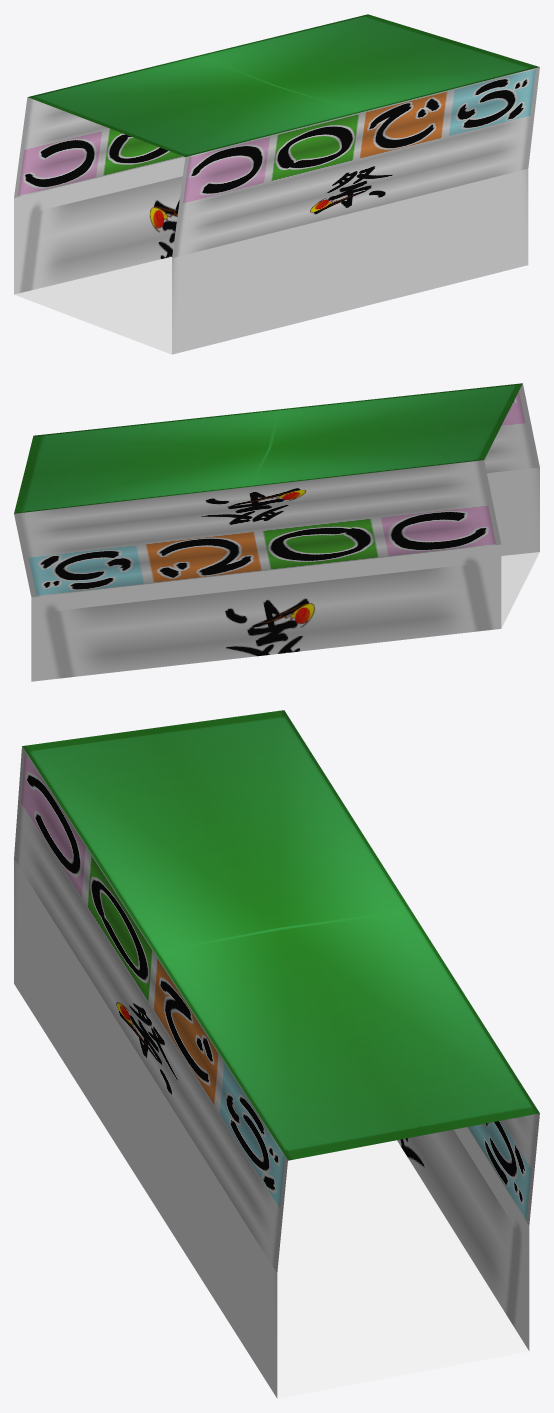
File: CourseAki_Wall_R_4_4.fbx
3 renders of one model, top to bottom at view 1: azimuth 30°, elevation 25°; view 2: azimuth 150°, elevation 25°; view 3: azimuth 270°, elevation 25°, orthographic. The views are drawn at different scales.
Visible parts, largest first — view 1: polySurface336; view 2: polySurface336; view 3: polySurface336.
Boxes of the visible parts, box(x1,y1,x2,y2) form: polySurface336: box(14, 14, 539, 354); polySurface336: box(14, 383, 539, 681); polySurface336: box(14, 710, 539, 1398).
Size of the model in its own units: 5.76 by 2.98 by 3.81.
Materials: 1 (1 with a texture image).
